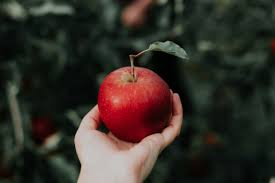apple: (96, 63, 175, 143)
